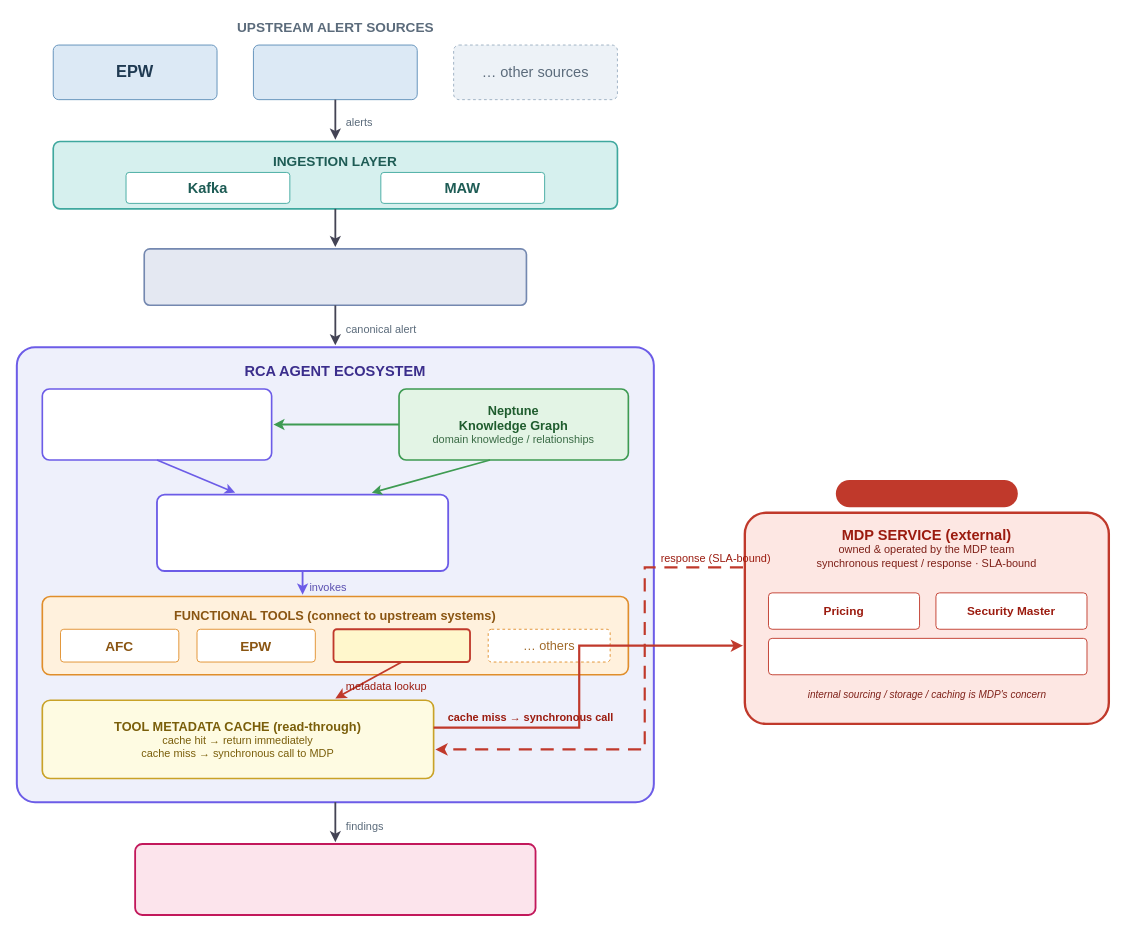
Image size: 1126x931. Some labels were removed from this diagram. Here are the shapes that lost their labels. From the top down, the centre of each, then its label:
At point (335, 72): "DAS".
At point (335, 277): "NORMALIZATION raw alerts → canonical alert schema".
At point (156, 424): "Knowledge Builder builds & queries the KG".
At point (926, 493): "SLA boundary".
At point (302, 532): "Research Agent determines analysis from KG, selects & orchestrates tools".
At point (401, 645): "MDP tool".
At point (927, 656): "Corporate Actions · Identifier Resolution".
At point (335, 879): "HITL — HUMAN-IN-THE-LOOP reviews agent analysis & takes the action".
